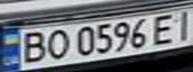0: (72, 24, 96, 56)
5: (93, 21, 115, 55)
6: (127, 16, 154, 50)
9: (109, 19, 133, 53)
B: (15, 29, 51, 65)
E: (148, 11, 181, 46)
I: (169, 7, 193, 40)
O: (42, 27, 72, 61)
